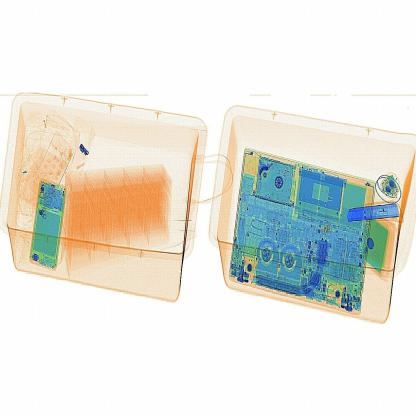pliers: (343, 200, 406, 223)
